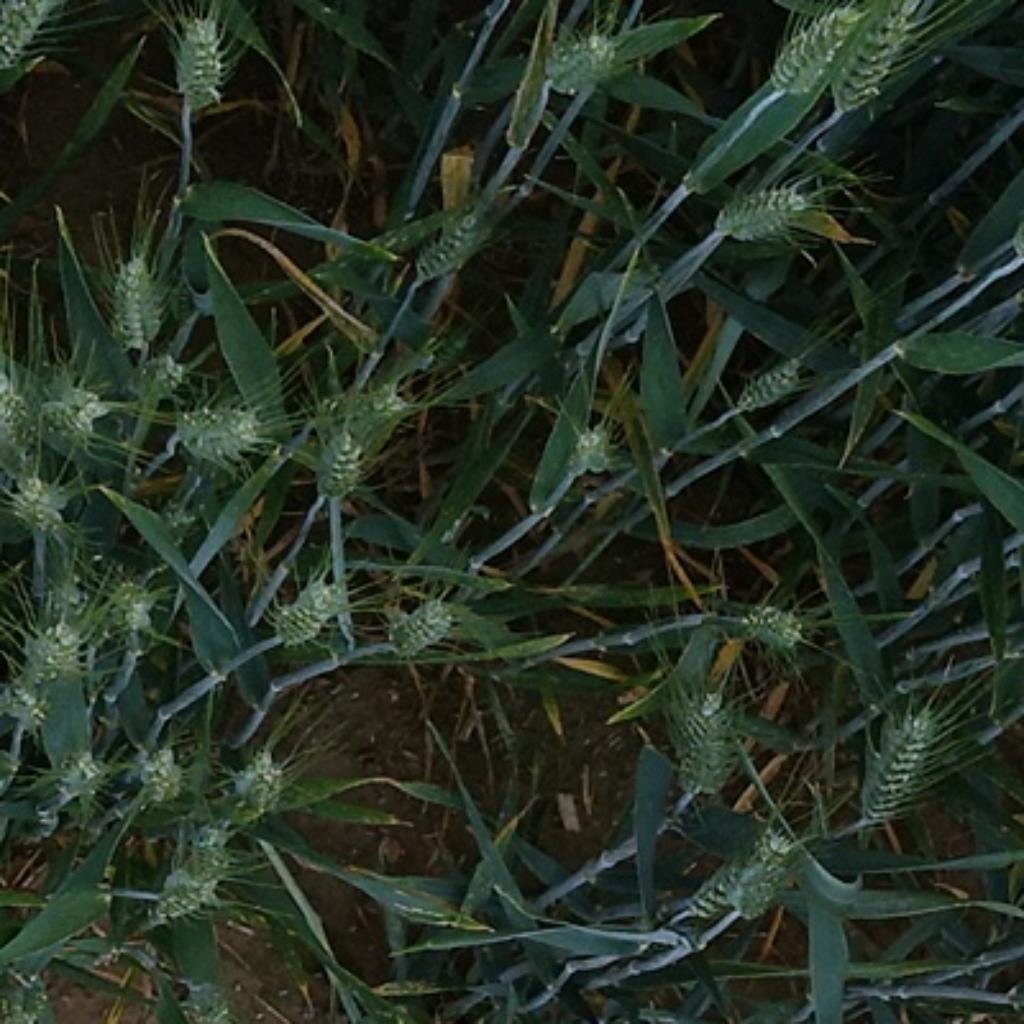0-0: (386, 163, 529, 294), (855, 697, 943, 841), (696, 826, 811, 924), (663, 673, 750, 801), (1, 620, 76, 739), (157, 4, 239, 111), (770, 7, 860, 104), (709, 171, 821, 248), (92, 250, 179, 348), (834, 13, 911, 123), (535, 15, 637, 97), (55, 574, 147, 663), (168, 389, 266, 471), (263, 565, 355, 652), (381, 586, 465, 660), (313, 372, 417, 429), (154, 843, 232, 917), (0, 368, 53, 475), (134, 737, 206, 814), (304, 431, 376, 503), (2, 464, 68, 530), (51, 368, 107, 445), (225, 746, 289, 813), (734, 351, 799, 412), (737, 600, 807, 654), (566, 420, 625, 482), (135, 352, 199, 403), (48, 757, 112, 803)
